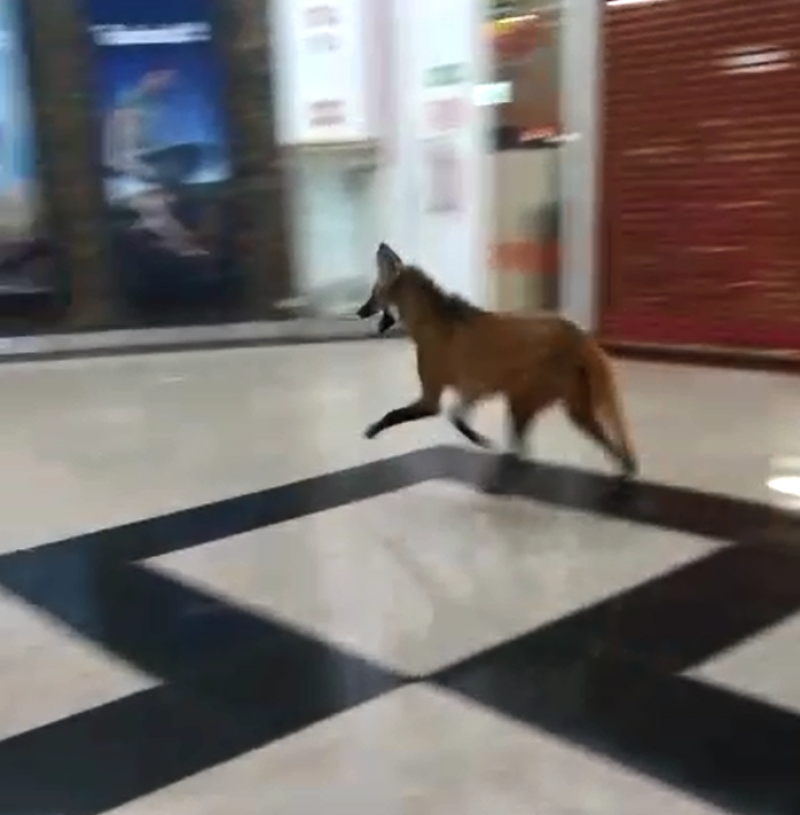LoboGuara: (343, 234, 655, 492)
